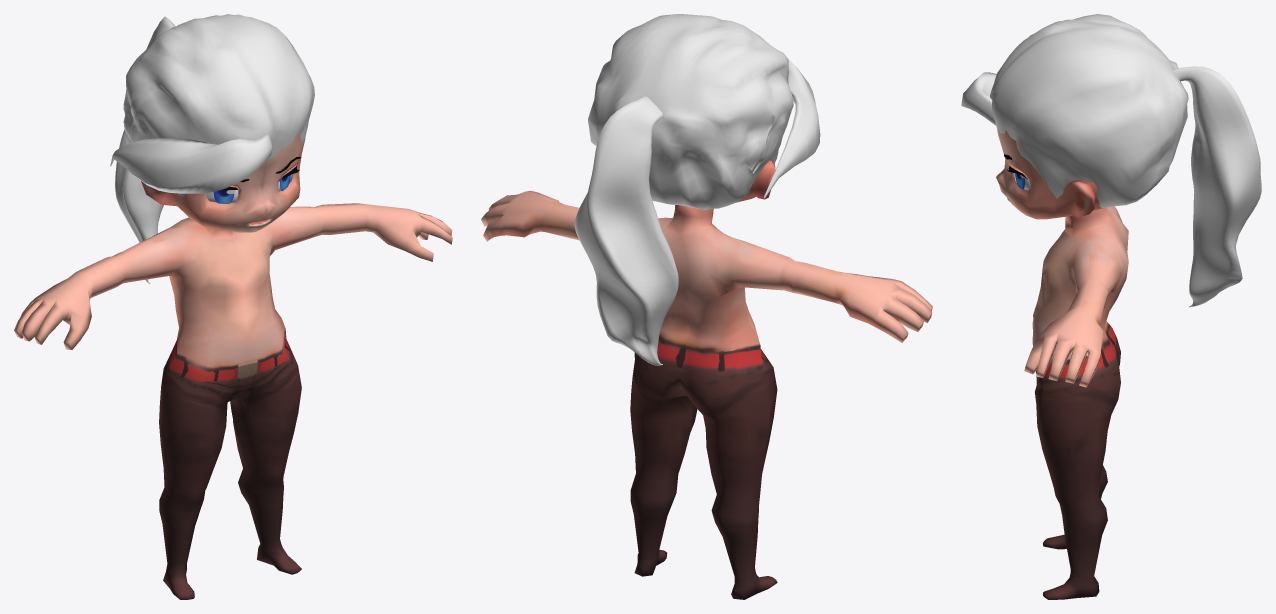
The model's file is Chibi Boy.fbx.
3 views of the same model, side by side, from view 1: azimuth 30°, elevation 25°; view 2: azimuth 150°, elevation 25°; view 3: azimuth 270°, elevation 25° (orthographic). The views are drawn at different scales.
Visible parts, largest first — view 1: Body01.001, hair base, NurbsPath.060, Face01, NurbsPath.065 Remeshed; view 2: Body01.001, hair base, NurbsPath.065 Remeshed, NurbsPath.060, Face01; view 3: hair base, Body01.001, NurbsPath.065 Remeshed, Face01, NurbsPath.060.
Boxes of the visible parts, left/top/right/bottom form: Body01.001: left=14, top=203, right=452, bottom=599; hair base: left=123, top=14, right=314, bottom=196; NurbsPath.060: left=110, top=134, right=272, bottom=193; Face01: left=141, top=133, right=303, bottom=232; NurbsPath.065 Remeshed: left=115, top=16, right=175, bottom=283; Body01.001: left=481, top=190, right=932, bottom=599; hair base: left=588, top=14, right=793, bottom=209; NurbsPath.065 Remeshed: left=574, top=96, right=678, bottom=365; NurbsPath.060: left=764, top=60, right=820, bottom=198; Face01: left=736, top=159, right=775, bottom=202; hair base: left=990, top=14, right=1188, bottom=207; Body01.001: left=1024, top=206, right=1128, bottom=599; NurbsPath.065 Remeshed: left=1173, top=66, right=1261, bottom=307; Face01: left=996, top=129, right=1105, bottom=219; NurbsPath.060: left=961, top=72, right=996, bottom=125.
Bounding box in the file's own units: 186 × 224 × 113.
6 materials, 3 textured.
